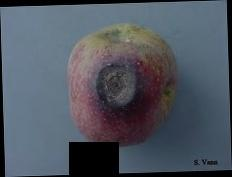rotten apple: (61, 21, 180, 149)
